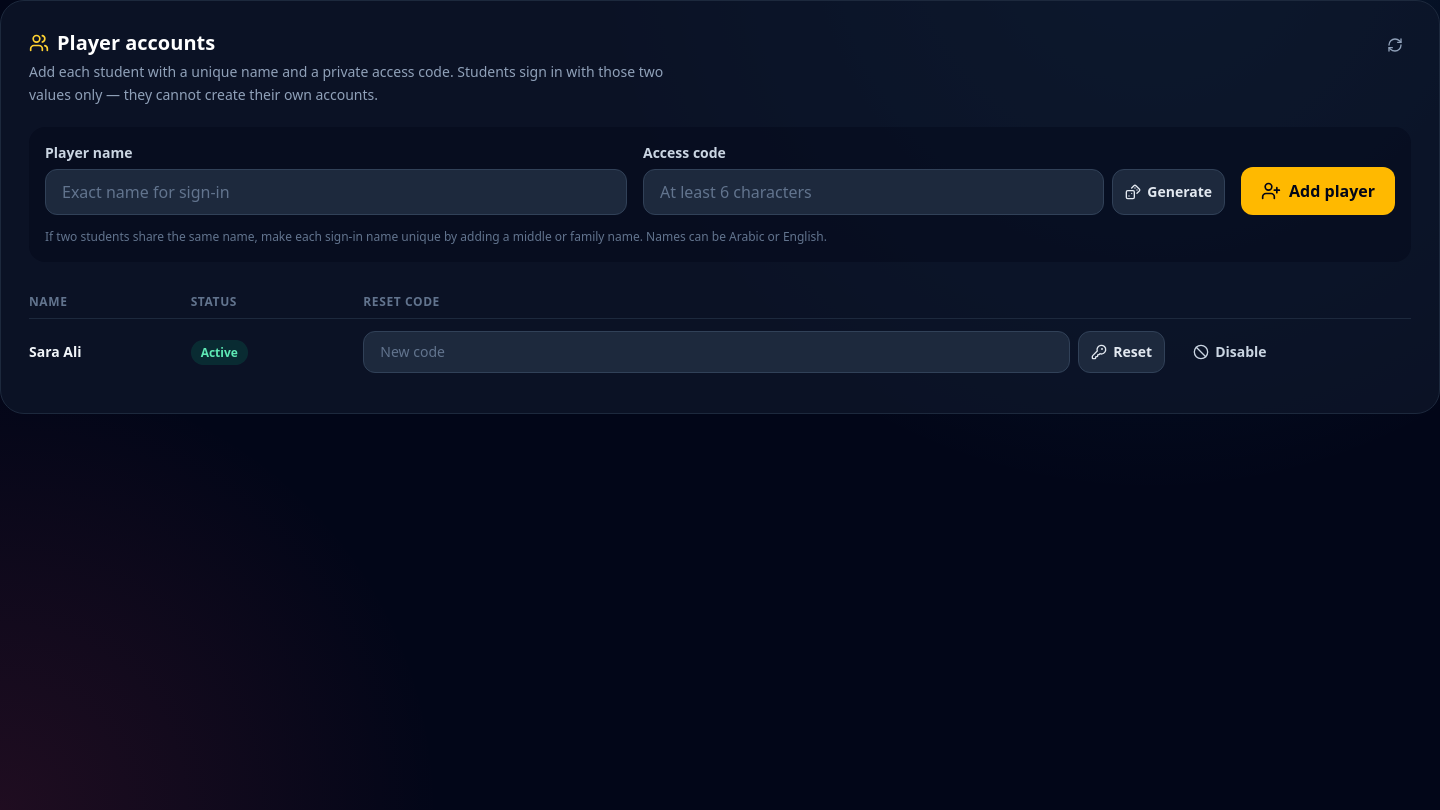
it: <PlayerManager /> › resets a player's access code
The image size is (1440, 810).
Check: the table with test id "player-table" is shown, box 29,286 -> 1411,385
Type "NEWCODE9" into the field named "New code for Sara Ali". click: (717, 352)
box: 363,331 -> 1070,373
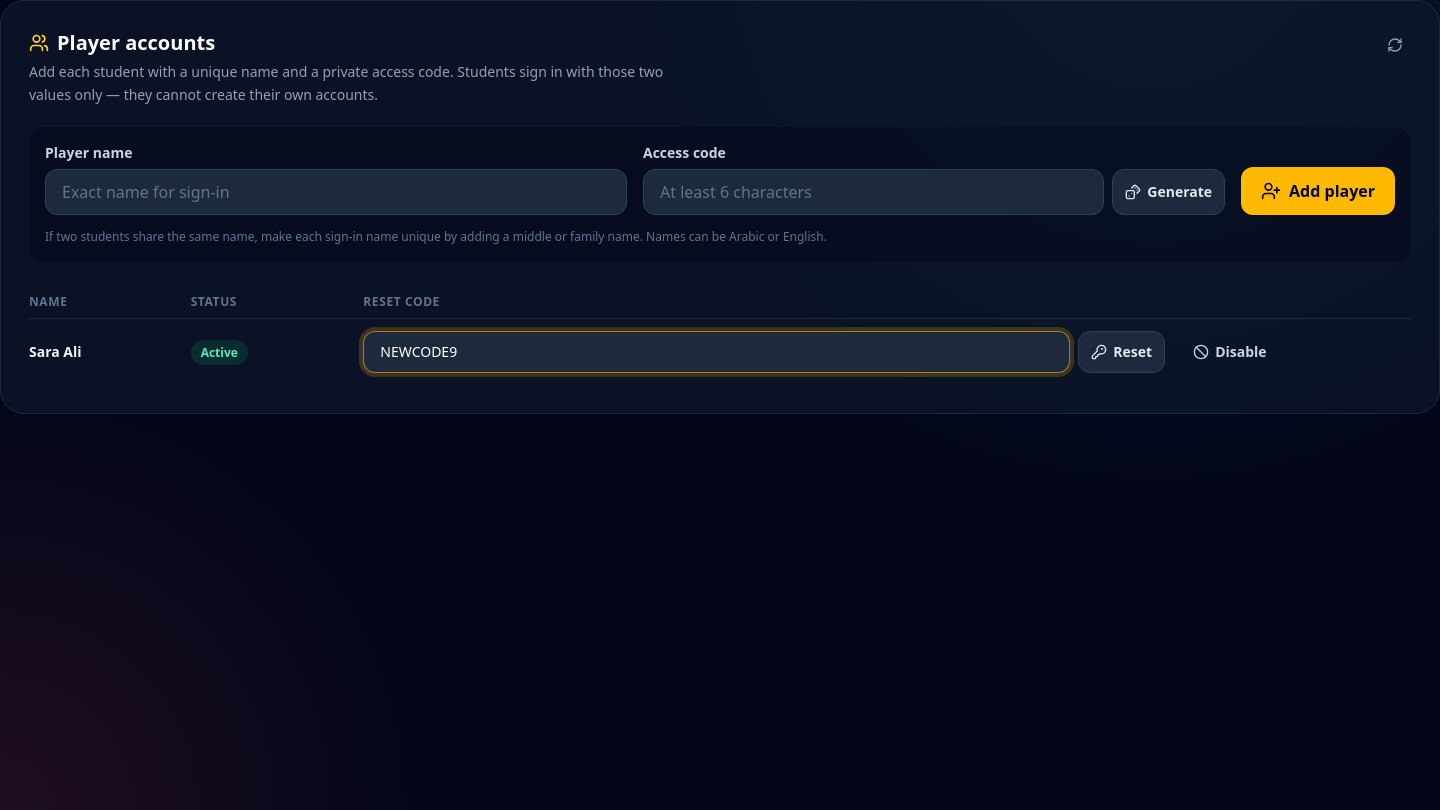
Click the button with aria-label "Reset code for Sara Ali". click: (1122, 352)
box: 1078,331 -> 1165,373
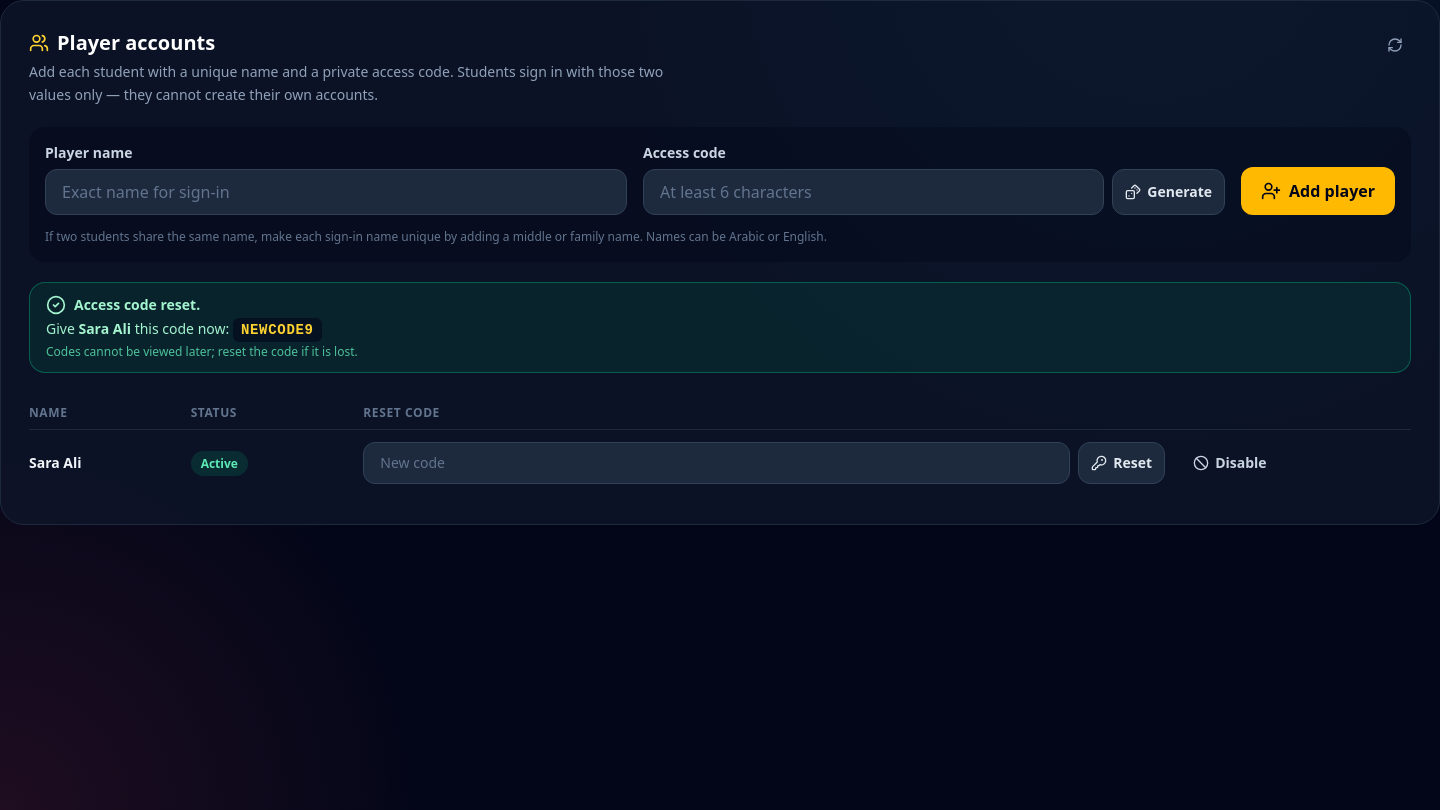
Check: the text "Access code reset." is shown, box 46,295 -> 200,315
